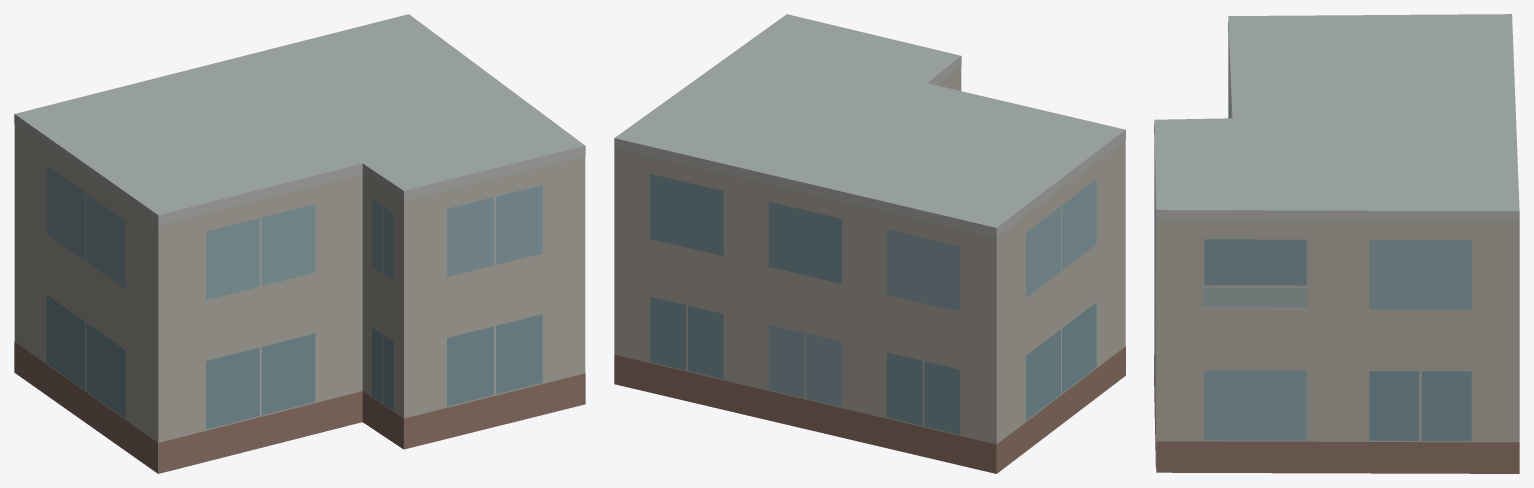
Rendered from survey-upis-32628866.glb.
The picture shows the model from 3 angles, left to right: view 1: azimuth 30°, elevation 25°; view 2: azimuth 150°, elevation 25°; view 3: azimuth 270°, elevation 25°; orthographic projection. The views are drawn at different scales.
Parts seen in each view (by area): view 1: survey-upis-32628866.tmp; view 2: survey-upis-32628866.tmp; view 3: survey-upis-32628866.tmp.
Part boxes in pixels (<box>): survey-upis-32628866.tmp: <box>14,14,585,473</box>; survey-upis-32628866.tmp: <box>614,14,1125,473</box>; survey-upis-32628866.tmp: <box>1154,14,1519,473</box>.
Size of the model in its own units: 9.84 by 6.1 by 7.7.
